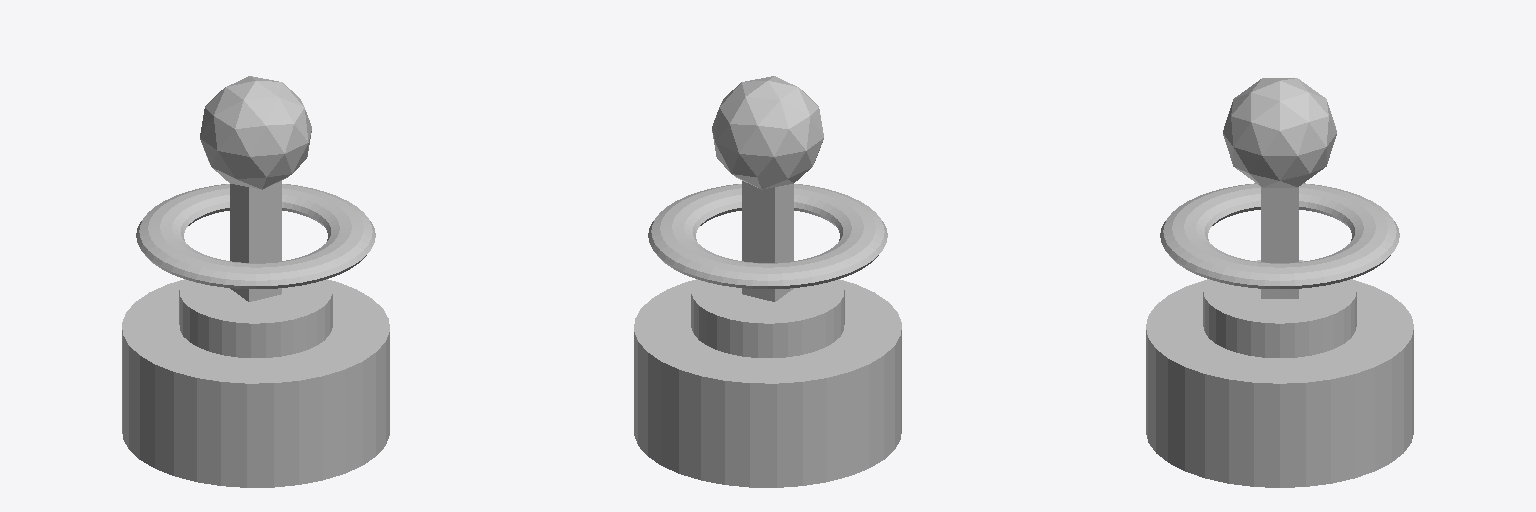
Rendered from TURRET.obj.
3 views of the same model, side by side, from view 1: azimuth 30°, elevation 25°; view 2: azimuth 150°, elevation 25°; view 3: azimuth 270°, elevation 25° (orthographic).
Parts seen in each view (by area): view 1: Cylinder.001, Torus, Icosphere, Cylinder, Cube.001; view 2: Cylinder.001, Torus, Icosphere, Cylinder, Cube.001; view 3: Cylinder.001, Torus, Icosphere, Cylinder, Cube.001.
Boxes of the visible parts, <box> form: Cylinder.001: <box>122,279,389,487</box>; Torus: <box>136,184,375,288</box>; Icosphere: <box>200,76,311,189</box>; Cylinder: <box>179,279,332,357</box>; Cube.001: <box>230,181,281,301</box>; Cylinder.001: <box>634,279,901,487</box>; Torus: <box>648,184,887,288</box>; Icosphere: <box>712,76,823,189</box>; Cylinder: <box>691,279,844,357</box>; Cube.001: <box>742,181,793,301</box>; Cylinder.001: <box>1146,279,1413,487</box>; Torus: <box>1160,183,1399,288</box>; Icosphere: <box>1223,78,1336,187</box>; Cylinder: <box>1203,260,1356,357</box>; Cube.001: <box>1261,187,1298,298</box>.
Bounding box in the file's own units: 14 × 20.17 × 14.